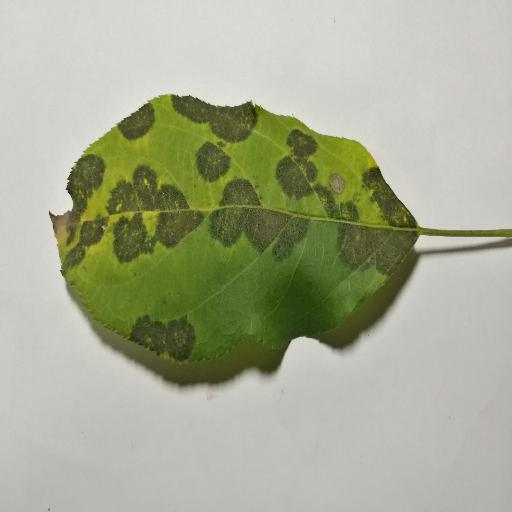Brown_Spot: (45, 77, 428, 390)
